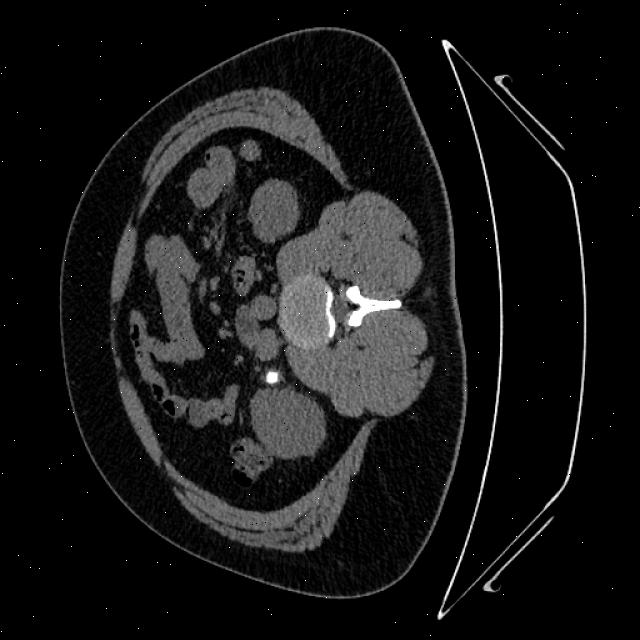kidneystone: (265, 369, 279, 384)
